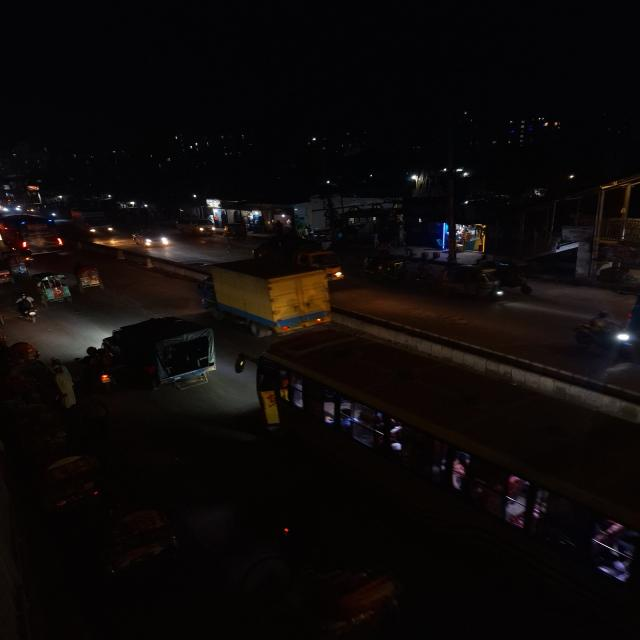bus: (254, 340, 639, 600), (4, 213, 66, 254)
car: (131, 228, 172, 250)
cng: (102, 314, 220, 394), (359, 251, 408, 285), (34, 271, 76, 307)
motorcycle: (569, 309, 639, 358), (79, 346, 124, 394), (13, 294, 43, 324)
rickshaw: (78, 500, 187, 579), (21, 446, 115, 516), (35, 271, 76, 307), (2, 339, 44, 373), (73, 263, 108, 295)
truck: (192, 258, 338, 336), (102, 314, 221, 395), (70, 208, 116, 238)
